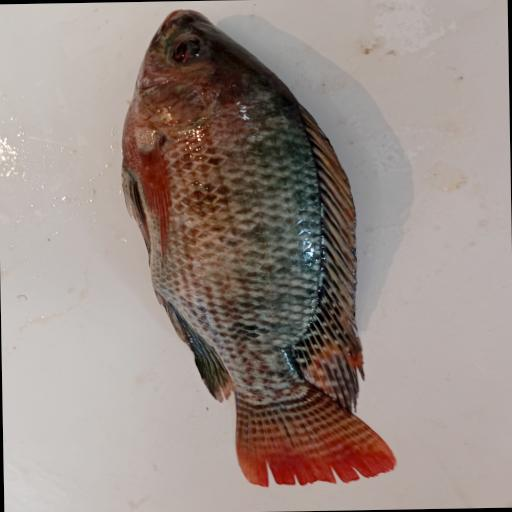Tilapia: (119, 6, 398, 491)
